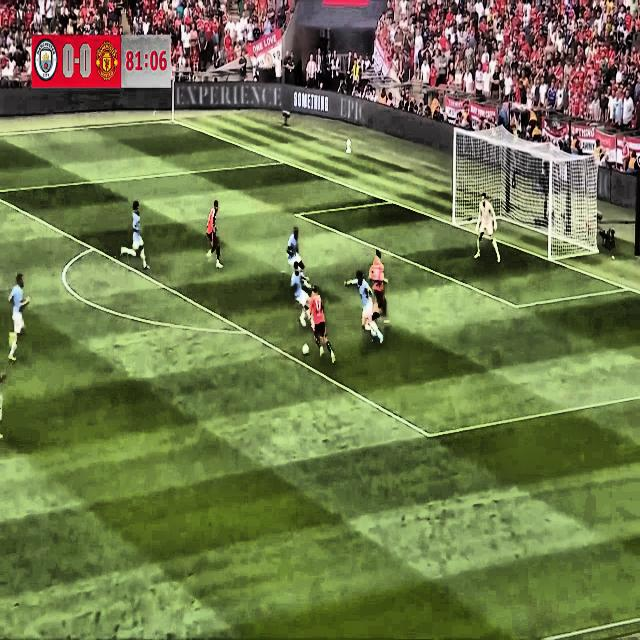ball: (299, 338, 310, 361)
goal_keeper: (472, 188, 506, 270)
players: (347, 263, 385, 347), (307, 278, 339, 369), (116, 198, 153, 276), (8, 268, 31, 369), (282, 216, 310, 292), (288, 257, 316, 332), (369, 245, 394, 325), (203, 192, 226, 272), (0, 356, 6, 454)
